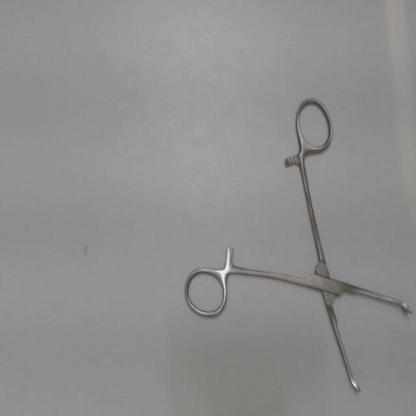Allis Tissue Forceps: (180, 89, 416, 402)
